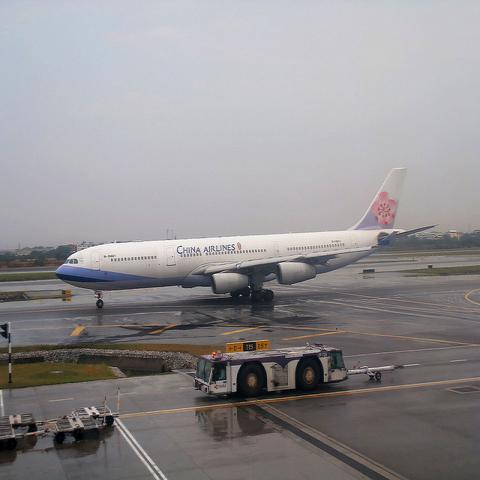truck: (192, 344, 404, 396)
